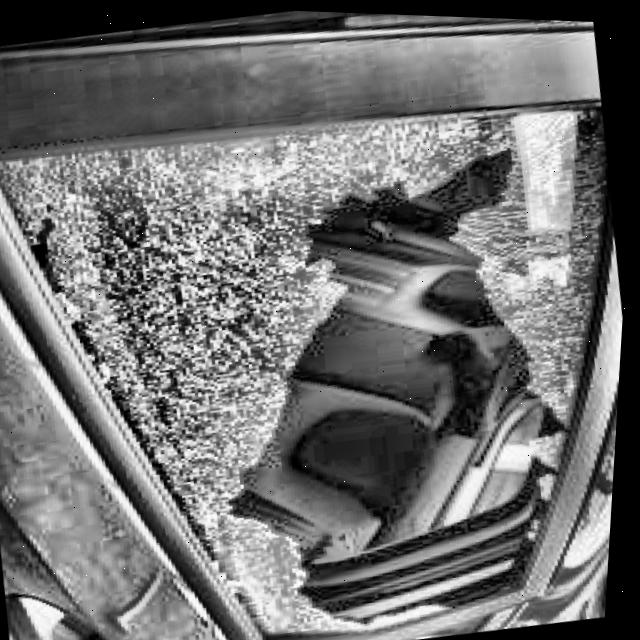glass_shatter: (191, 150, 548, 602)
